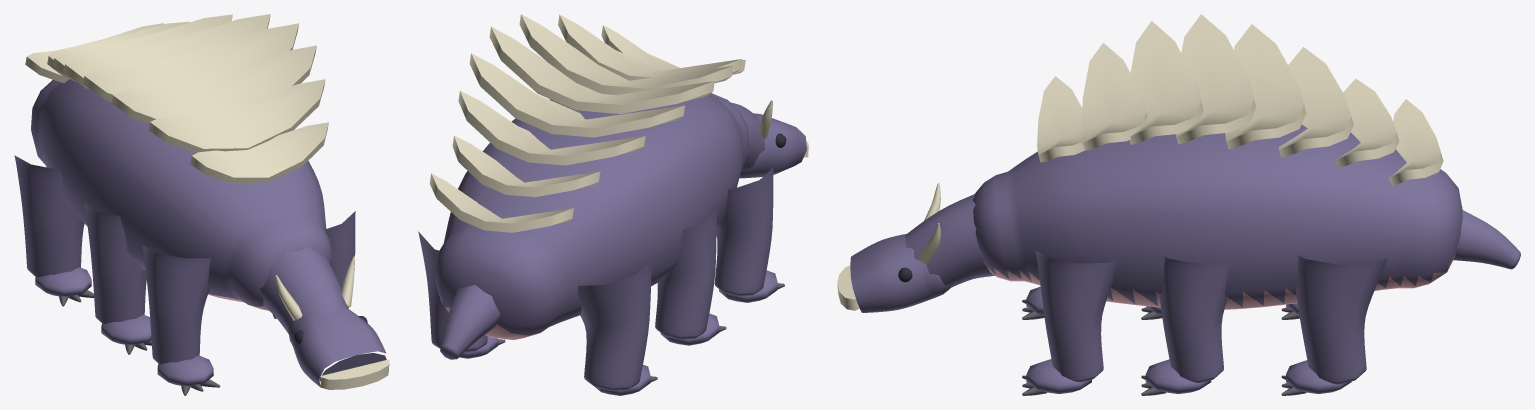
File: xeno-species-and-alien-creatures-plated-grazer-calf-fcfd136e__21134.glb
3 renders of one model, left to right at view 1: azimuth 30°, elevation 25°; view 2: azimuth 150°, elevation 25°; view 3: azimuth 270°, elevation 25°, orthographic. The views are drawn at different scales.
Parts seen in each view (by area): view 1: plated-grazer-calf; view 2: plated-grazer-calf; view 3: plated-grazer-calf.
Boxes of the visible parts, left/top/right/bottom form: plated-grazer-calf: left=14, top=14, right=389, bottom=395; plated-grazer-calf: left=418, top=14, right=808, bottom=395; plated-grazer-calf: left=837, top=14, right=1520, bottom=395.
Bounding box in the file's own units: 1.03 × 1.22 × 2.68.
